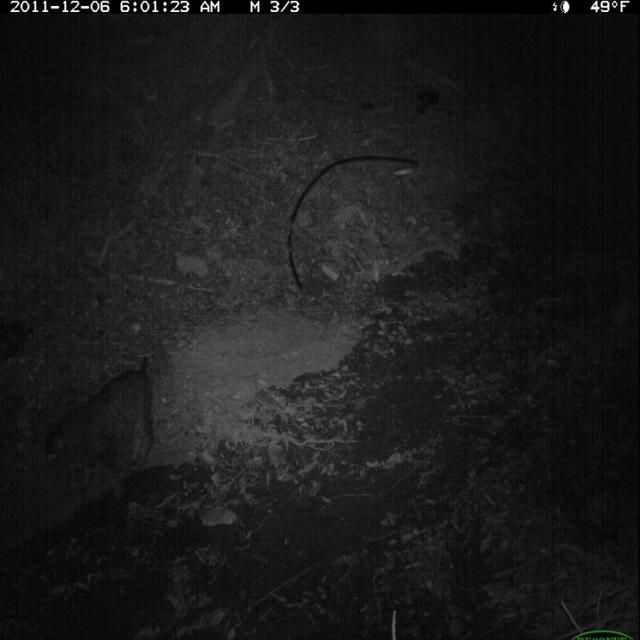cat: (39, 353, 159, 501)
